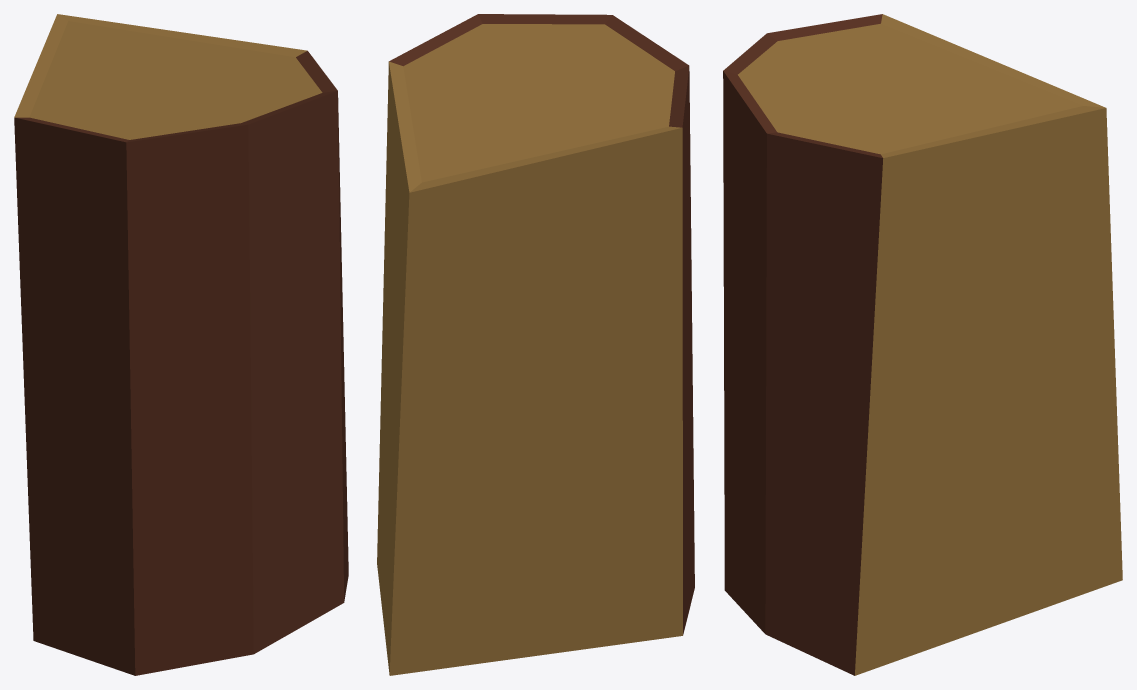
Rendered from Holzscheit.fbx.
3 views of the same model, side by side, from view 1: azimuth 30°, elevation 25°; view 2: azimuth 150°, elevation 25°; view 3: azimuth 270°, elevation 25° (orthographic). The views are drawn at different scales.
Parts seen in each view (by area): view 1: Cylinder; view 2: Cylinder; view 3: Cylinder.
Boxes of the visible parts, box(x1,y1,x2,y2) form: Cylinder: box(14, 14, 348, 675); Cylinder: box(377, 14, 694, 675); Cylinder: box(723, 14, 1122, 675).
Size of the model in its own units: 20.64 by 33.32 by 22.97.
